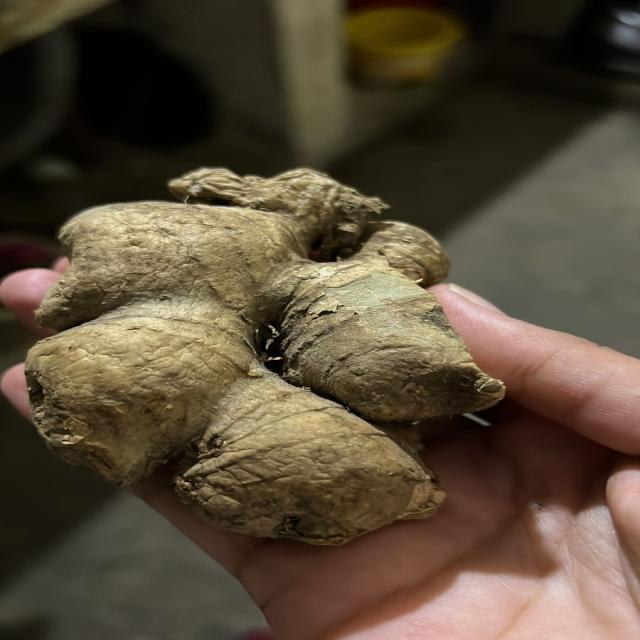ginger: (32, 180, 484, 534)
